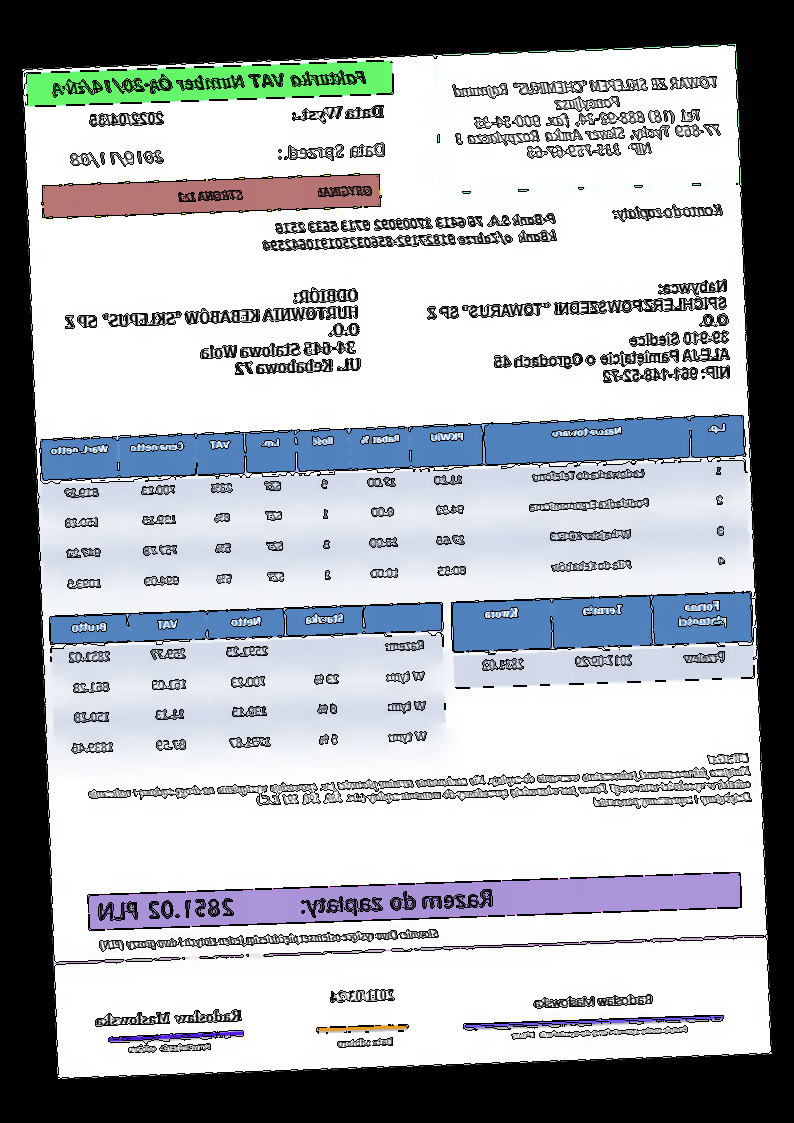Table: (40, 411, 752, 603), (48, 599, 451, 768), (452, 591, 755, 689)
TextBox: (83, 748, 752, 830), (422, 275, 734, 393), (60, 284, 365, 384), (449, 69, 727, 166), (96, 885, 496, 927), (257, 209, 561, 256), (49, 66, 372, 101), (96, 923, 442, 955), (173, 181, 377, 208), (507, 1020, 690, 1043), (94, 1006, 246, 1031), (610, 197, 727, 225), (274, 139, 389, 165), (530, 990, 657, 1010), (287, 101, 388, 126), (67, 146, 168, 171), (88, 107, 167, 130), (326, 985, 400, 1007), (125, 1039, 212, 1057), (334, 1033, 397, 1051)
